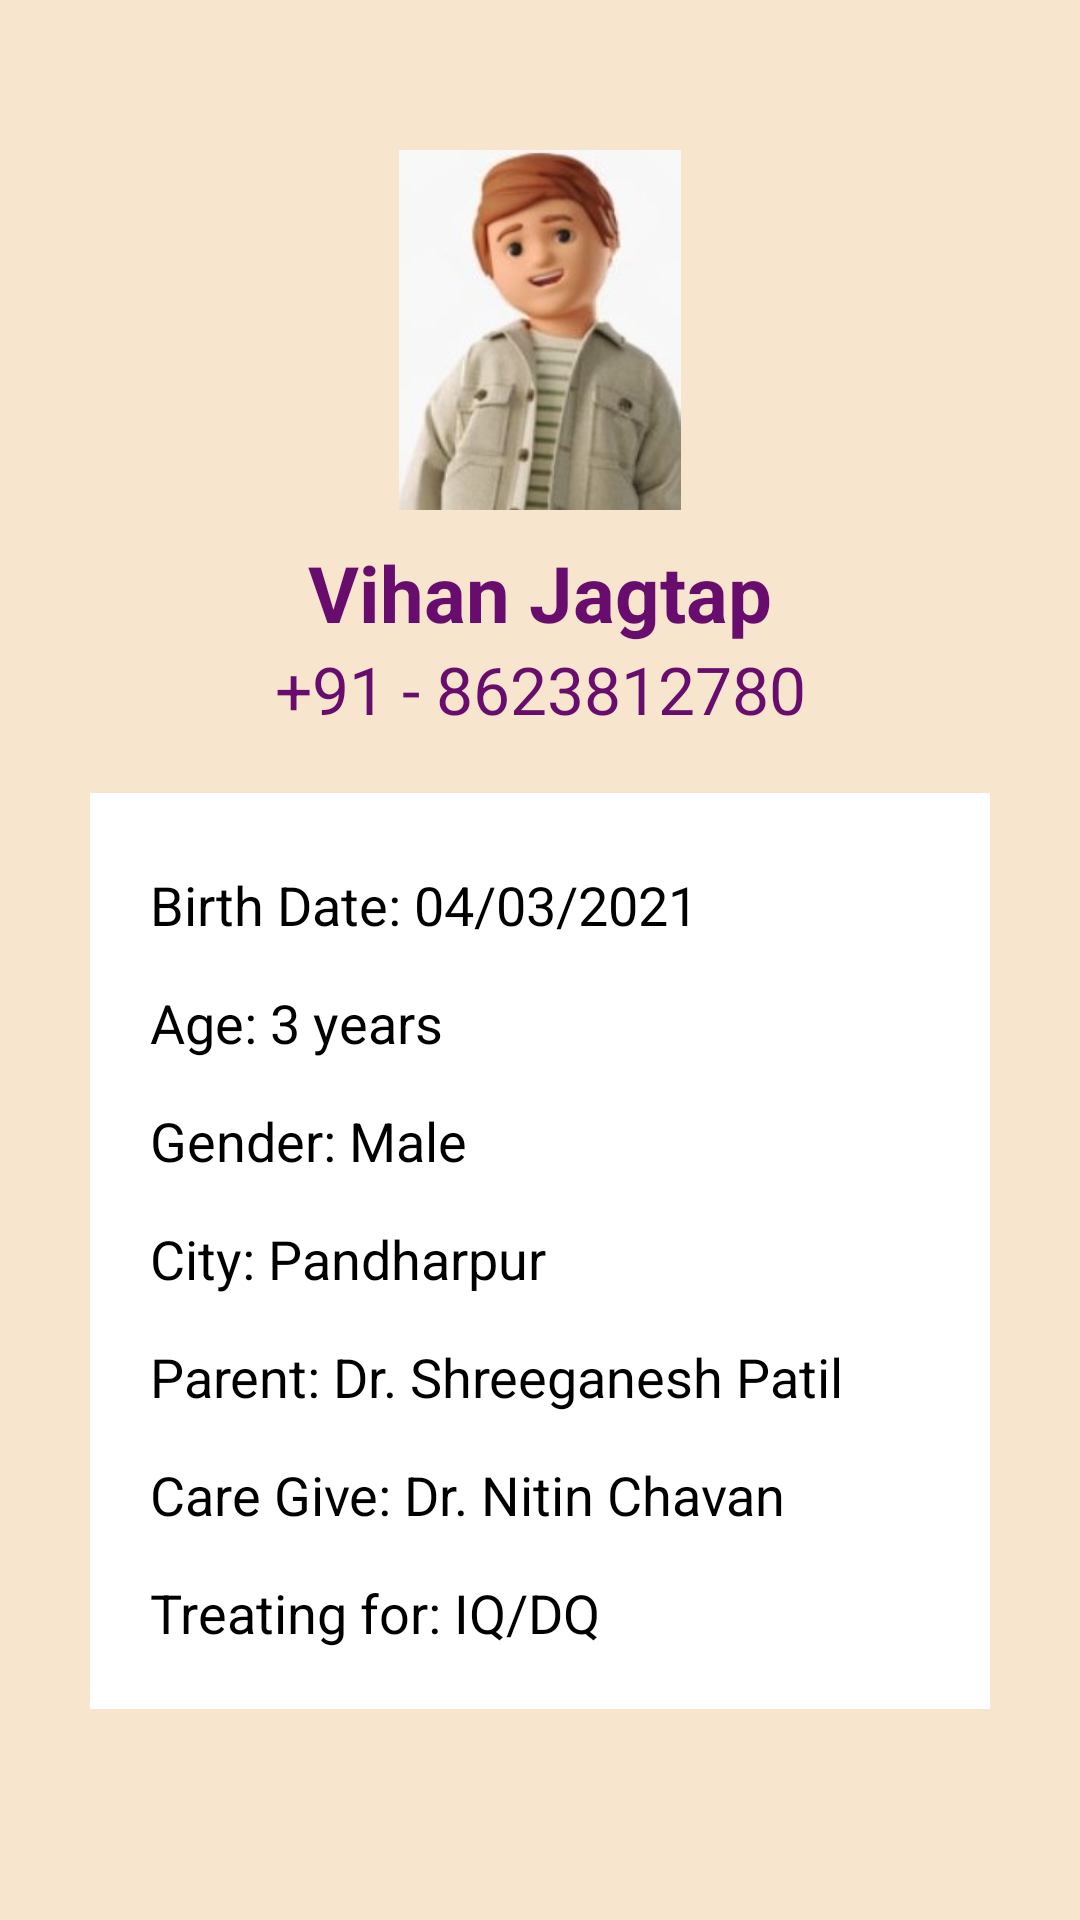

Point at icon controls on the screen. Image size 1080 x 1920, points as point (x, y).
profile kid: point (540, 330)
